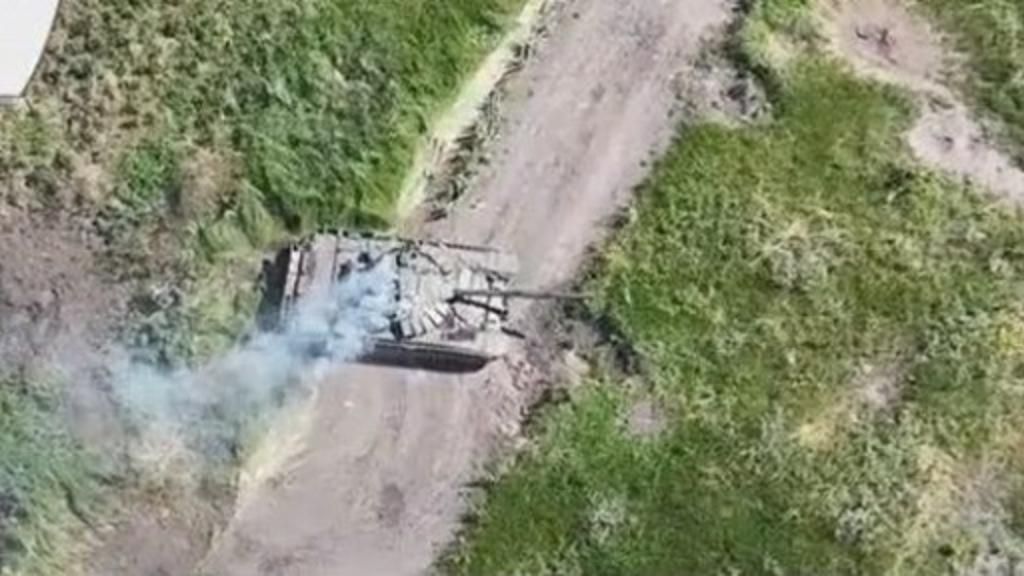TANK: (266, 212, 600, 374)
